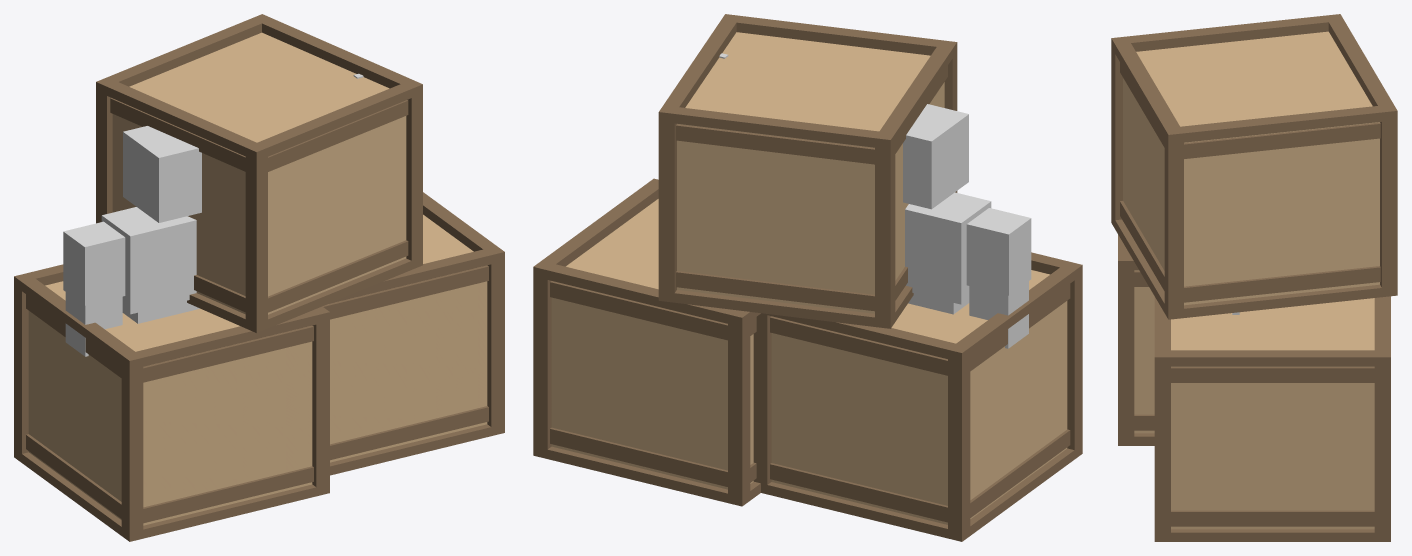
File: grotto_crate_pile_LOD0_roblox.fbx
3 views of the same model, side by side, from view 1: azimuth 30°, elevation 25°; view 2: azimuth 150°, elevation 25°; view 3: azimuth 270°, elevation 25° (orthographic). The views are drawn at different scales.
Parts seen in each view (by area): view 1: Crate_Wood.002, Crate_Wood, Crate_Wood.001, Ref_UpperTorso, Ref_Head, Ref_LeftUpperArm, Crate_CornerPost_3, Crate_CornerPost_3.002, Crate_CornerPost_1.001, Crate_CornerPost_1, Crate_CornerPost_1.002, Crate_Band.005 (+26 smaller); view 2: Crate_Wood.002, Crate_Wood, Crate_Wood.001, Ref_UpperTorso, Ref_Head, Ref_LeftUpperArm, Crate_CornerPost_2, Crate_CornerPost_2.001, Crate_CornerPost_2.002, Crate_CornerPost_0.002, Crate_CornerPost_0.001, Crate_TopFrame.008 (+23 smaller); view 3: Crate_Wood.002, Crate_Wood.001, Crate_CornerPost_1.002, Crate_Band.010, Crate_TopFrame.006, Crate_CornerPost_0.002, Crate_TopFrame.010, Crate_TopFrame.011, Crate_Band.018, Crate_Band.022, Crate_Band.014, Crate_CornerPost_0.001 (+14 smaller).
Part boxes in pixels (x1,y1,x2,y2): Crate_Wood.002: [112, 32, 406, 314]; Crate_Wood: [28, 281, 312, 525]; Crate_Wood.001: [330, 214, 487, 462]; Ref_UpperTorso: [101, 207, 196, 314]; Ref_Head: [123, 126, 201, 222]; Ref_LeftUpperArm: [63, 221, 125, 305]; Crate_CornerPost_3: [121, 352, 143, 541]; Crate_CornerPost_3.002: [245, 143, 267, 332]; Crate_CornerPost_1.001: [483, 246, 504, 435]; Crate_CornerPost_1: [311, 306, 329, 496]; Crate_CornerPost_1.002: [401, 79, 422, 269]; Crate_Band.005: [143, 325, 313, 382]; Crate_Wood.002: [677, 32, 944, 313]; Crate_Wood: [771, 270, 1067, 524]; Crate_Wood.001: [551, 199, 753, 489]; Ref_UpperTorso: [905, 192, 991, 304]; Ref_Head: [903, 104, 968, 209]; Ref_LeftUpperArm: [966, 208, 1031, 295]; Crate_CornerPost_2: [948, 343, 970, 541]; Crate_CornerPost_2.001: [728, 310, 750, 506]; Crate_CornerPost_2.002: [875, 131, 895, 328]; Crate_CornerPost_0.002: [658, 105, 678, 302]; Crate_CornerPost_0.001: [533, 261, 555, 458]; Crate_TopFrame.008: [674, 107, 879, 147]; Crate_Wood.002: [1123, 31, 1379, 305]; Crate_Wood.001: [1171, 298, 1374, 529]; Crate_CornerPost_1.002: [1164, 126, 1183, 319]; Crate_Band.010: [1171, 510, 1374, 526]; Crate_TopFrame.006: [1171, 350, 1374, 366]; Crate_CornerPost_0.002: [1378, 104, 1397, 297]; Crate_TopFrame.010: [1180, 106, 1381, 142]; Crate_TopFrame.011: [1127, 15, 1328, 51]; Crate_Band.018: [1184, 266, 1380, 302]; Crate_Band.022: [1184, 122, 1380, 158]; Crate_Band.014: [1171, 367, 1374, 382]; Crate_CornerPost_0.001: [1374, 350, 1390, 541].
Bounding box in the file's own units: 6.32 × 3.9 × 5.56.
